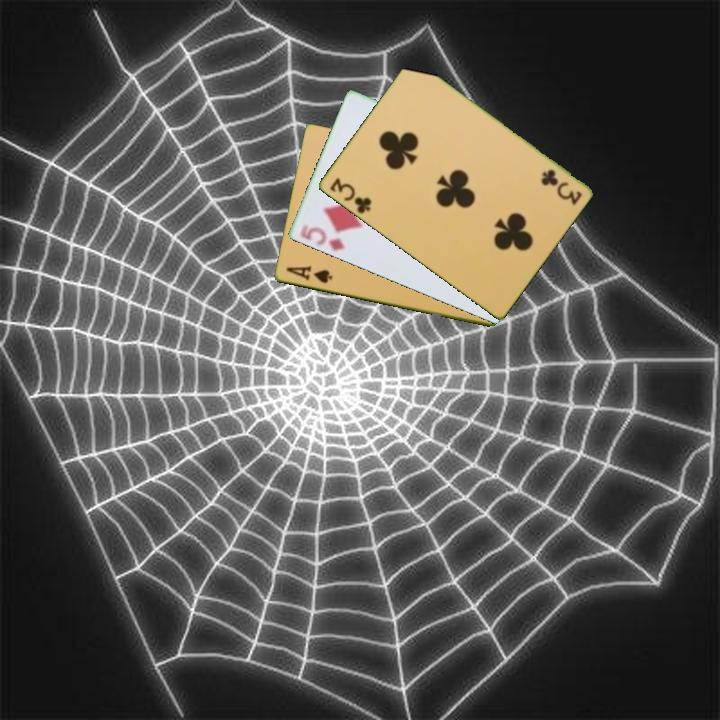3c: (326, 174, 374, 217), (537, 166, 584, 207)
5d: (296, 221, 348, 254)
As: (282, 262, 335, 286)
